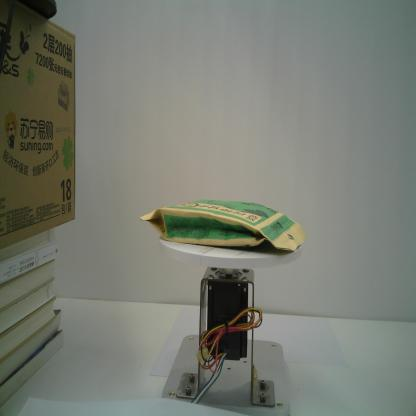Dried Food: (137, 197, 309, 255)
